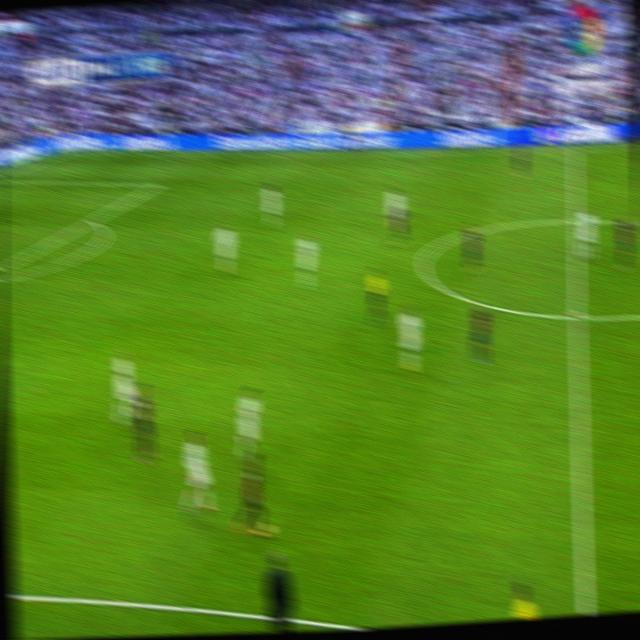halfcircle_bottom: (568, 301, 587, 330)
halfcircle_top: (568, 209, 584, 231)
midline_top_intersection: (568, 142, 581, 157)
top_arc_area_intersection: (86, 212, 99, 228)
